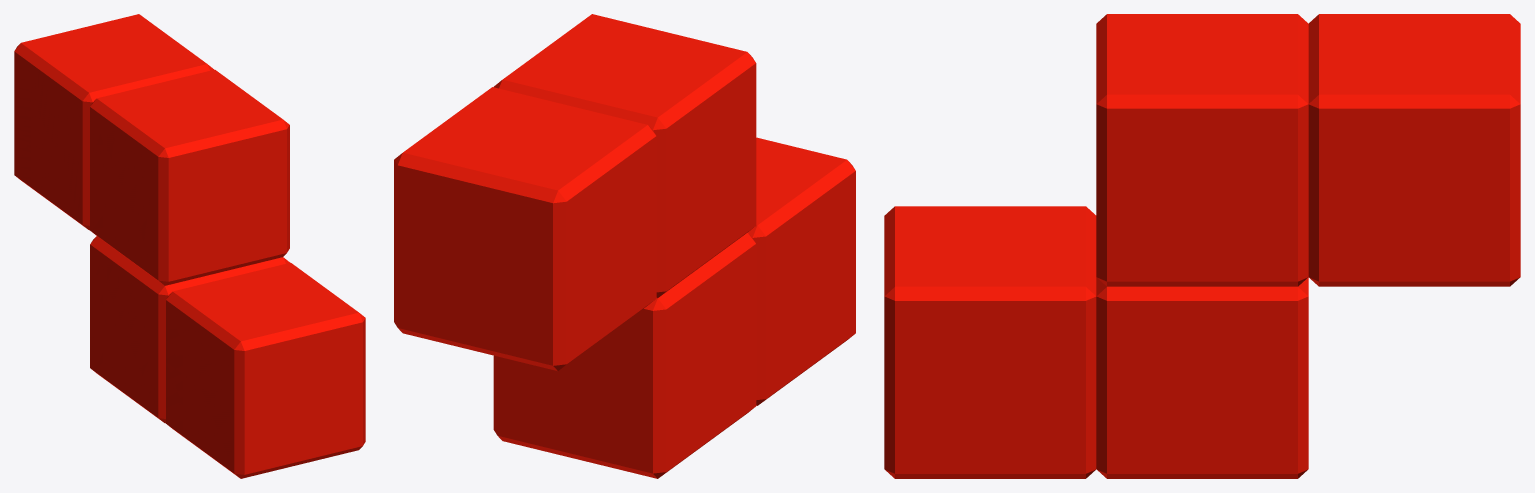
File: Z-Block.Reverse.obj
3 renders of one model, left to right at view 1: azimuth 30°, elevation 25°; view 2: azimuth 150°, elevation 25°; view 3: azimuth 270°, elevation 25°, orthographic. The views are drawn at different scales.
Parts seen in each view (by area): view 1: Z-Block.Reverse_Cube.025; view 2: Z-Block.Reverse_Cube.025; view 3: Z-Block.Reverse_Cube.025.
Part boxes in pixels (box(x1,y1,x2,y2)): Z-Block.Reverse_Cube.025: box(14, 14, 365, 478); Z-Block.Reverse_Cube.025: box(394, 14, 855, 478); Z-Block.Reverse_Cube.025: box(884, 14, 1520, 478).
Size of the model in its own units: 2 by 4 by 6.
1 material, 1 textured.
